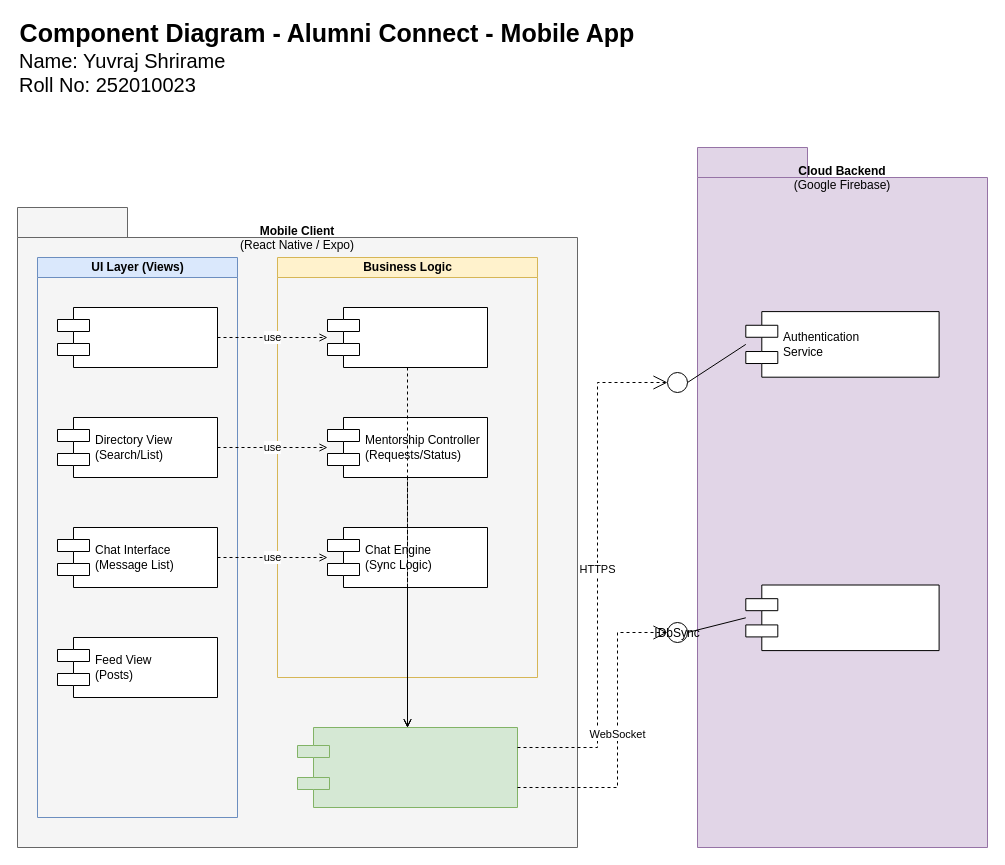
Image size: 1005x865. Some labels were removed from this diagram. The centre of each missing label's shape, as x and y in pixels:
Auth Screens (Login/Signup): (x=137, y=337)
Firebase Adapter (Data Access Object): (x=407, y=767)
Firestore DB (NoSQL): (x=842, y=617)
IAuth API: (x=677, y=382)
User Manager (Profile/Roles): (x=407, y=337)
